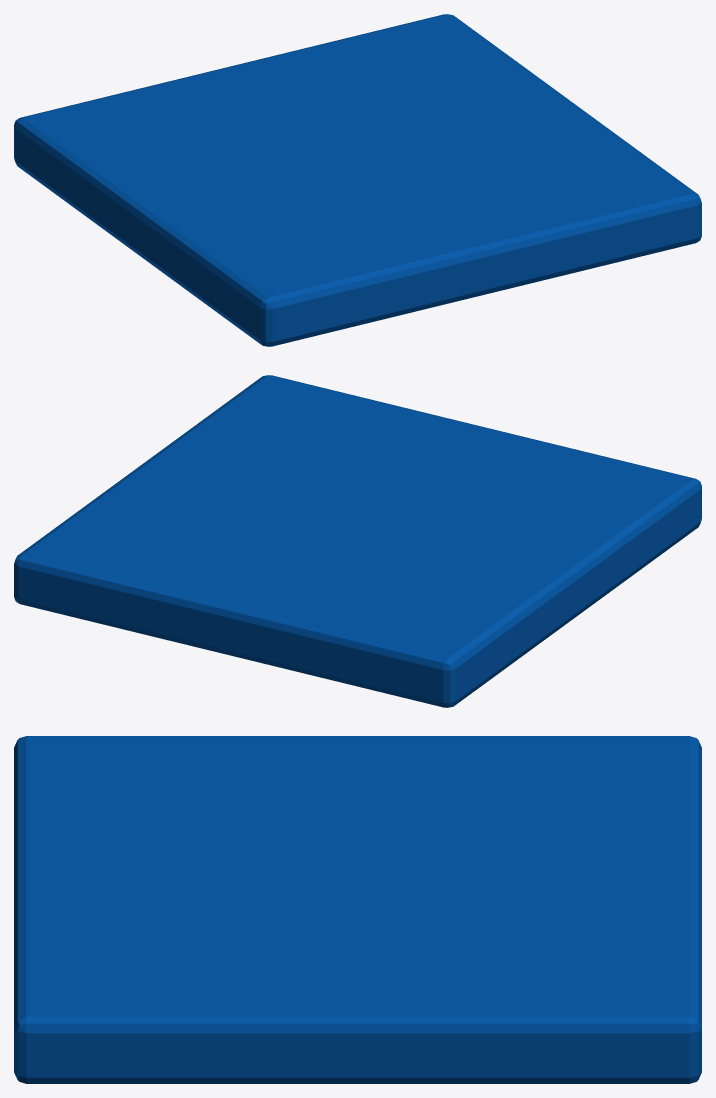
Rendered from TileBlue.obj.
3 renders of one model, top to bottom at view 1: azimuth 30°, elevation 25°; view 2: azimuth 150°, elevation 25°; view 3: azimuth 270°, elevation 25°, orthographic. The views are drawn at different scales.
Parts seen in each view (by area): view 1: Plane; view 2: Plane; view 3: Plane.
Part boxes in pixels (x1,y1,x2,y2): Plane: [14, 14, 701, 346]; Plane: [14, 375, 701, 707]; Plane: [14, 736, 701, 1083].
Bounding box in the file's own units: 1 × 0.1071 × 1.
Materials: 1 (1 with a texture image).
